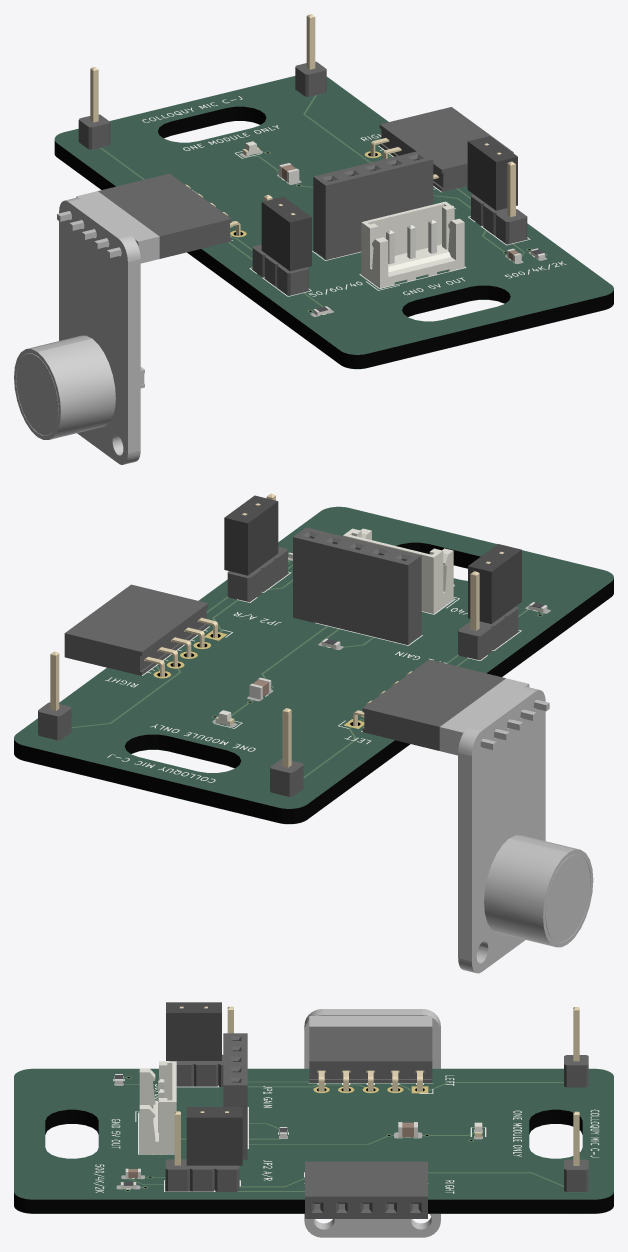
The model's file is microphone-flex-left.glb.
3 views of the same model, one above another, from view 1: azimuth 30°, elevation 25°; view 2: azimuth 150°, elevation 25°; view 3: azimuth 270°, elevation 25° (orthographic). The views are drawn at different scales.
Parts seen in each view (by area): view 1: microphone-flex-left_visual_layers_1, microphone-flex-left_visual_layers_4, VISUAL_MODULE_LEFT, M1, J1, J2, J3, JP1.001, JP2.001, JP2, JP1, microphone-flex-left_visual_layers_7 (+2 smaller); view 2: microphone-flex-left_visual_layers_1, microphone-flex-left_visual_layers_4, VISUAL_MODULE_LEFT, M1, J3, J2, JP2.001, JP1.001, JP1, J1, JP2, TP1 (+3 smaller); view 3: microphone-flex-left_visual_layers_1, microphone-flex-left_visual_layers_4, J2, J3, VISUAL_MODULE_LEFT, JP2.001, JP1.001, J1, JP2, M1, microphone-flex-left_visual_layers_7, JP1 (+4 smaller).
Part boxes in pixels (left/top/right/bottom): microphone-flex-left_visual_layers_1: left=54, top=76, right=613, bottom=368; microphone-flex-left_visual_layers_4: left=54, top=76, right=613, bottom=354; VISUAL_MODULE_LEFT: left=14, top=191, right=159, bottom=464; M1: left=313, top=150, right=433, bottom=259; J1: left=361, top=201, right=464, bottom=288; J2: left=98, top=173, right=240, bottom=258; J3: left=370, top=107, right=513, bottom=191; JP1.001: left=261, top=196, right=311, bottom=271; JP2.001: left=467, top=136, right=517, bottom=210; JP2: left=471, top=143, right=527, bottom=244; JP1: left=252, top=194, right=308, bottom=295; microphone-flex-left_visual_layers_7: left=142, top=96, right=566, bottom=314; microphone-flex-left_visual_layers_1: left=14, top=507, right=613, bottom=823; microphone-flex-left_visual_layers_4: left=14, top=506, right=613, bottom=808; VISUAL_MODULE_LEFT: left=439, top=678, right=593, bottom=973; M1: left=293, top=527, right=421, bottom=644; J3: left=64, top=584, right=217, bottom=676; J2: left=353, top=659, right=505, bottom=750; JP2.001: left=224, top=495, right=278, bottom=575; JP1.001: left=468, top=544, right=521, bottom=623; JP1: left=458, top=551, right=518, bottom=659; J1: left=343, top=528, right=453, bottom=613; JP2: left=227, top=493, right=287, bottom=601; TP1: left=38, top=651, right=71, bottom=740; microphone-flex-left_visual_layers_1: left=14, top=1069, right=613, bottom=1213; microphone-flex-left_visual_layers_4: left=14, top=1068, right=613, bottom=1199; J2: left=309, top=1026, right=432, bottom=1091; J3: left=305, top=1161, right=427, bottom=1218; VISUAL_MODULE_LEFT: left=304, top=1009, right=440, bottom=1237; JP2.001: left=186, top=1107, right=242, bottom=1165; JP1.001: left=166, top=1002, right=221, bottom=1060; J1: left=139, top=1061, right=176, bottom=1154; JP2: left=165, top=1111, right=239, bottom=1191; M1: left=223, top=1033, right=247, bottom=1159; microphone-flex-left_visual_layers_7: left=93, top=1075, right=599, bottom=1193; JP1: left=169, top=1006, right=233, bottom=1086.
Bounding box in the file's own units: 0.0522 × 0.0313 × 0.062.
